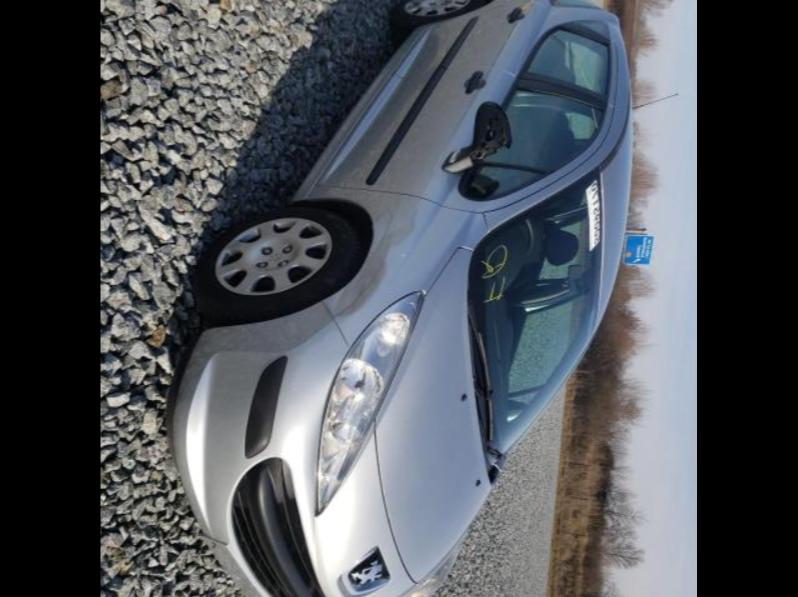Broken part: (444, 98, 512, 172)
Dent: (332, 203, 416, 318)
